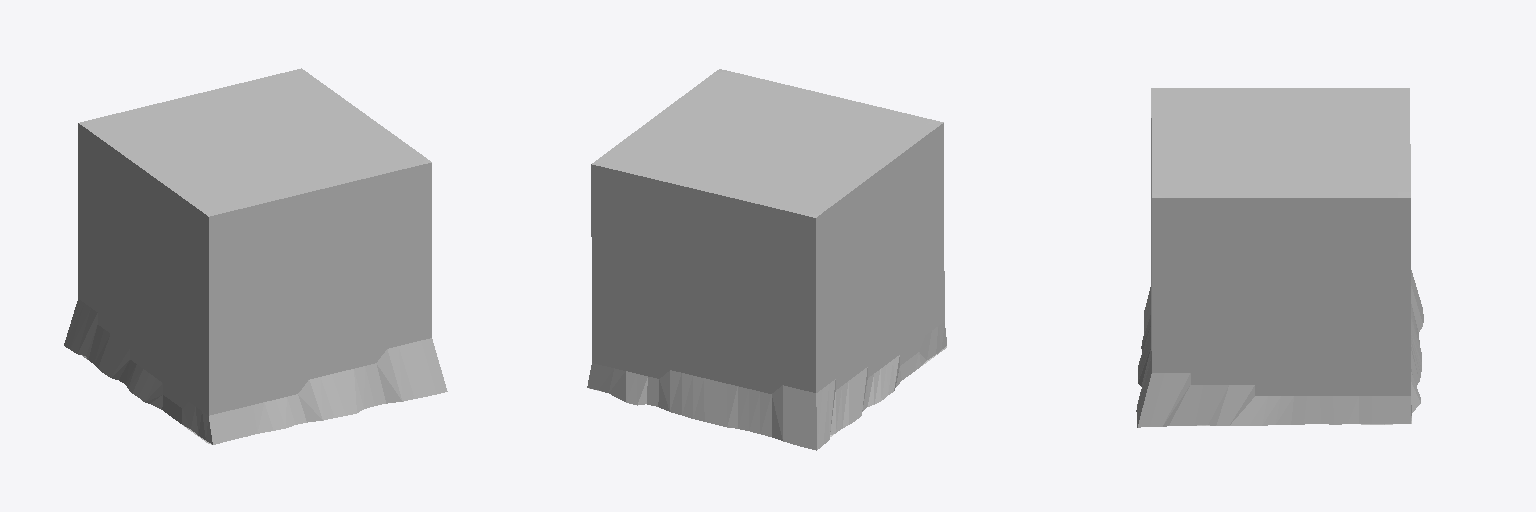
Rendered from mod0158.obj.
3 views of the same model, side by side, from view 1: azimuth 30°, elevation 25°; view 2: azimuth 150°, elevation 25°; view 3: azimuth 270°, elevation 25° (orthographic).
Parts seen in each view (by area): view 1: Box001; view 2: Box001; view 3: Box001.
Part boxes in pixels (left/top/right/bottom): Box001: left=64, top=68, right=447, bottom=444; Box001: left=587, top=69, right=946, bottom=450; Box001: left=1136, top=88, right=1423, bottom=427.
Bounding box in the file's own units: 0.5799 × 0.5221 × 0.5979.